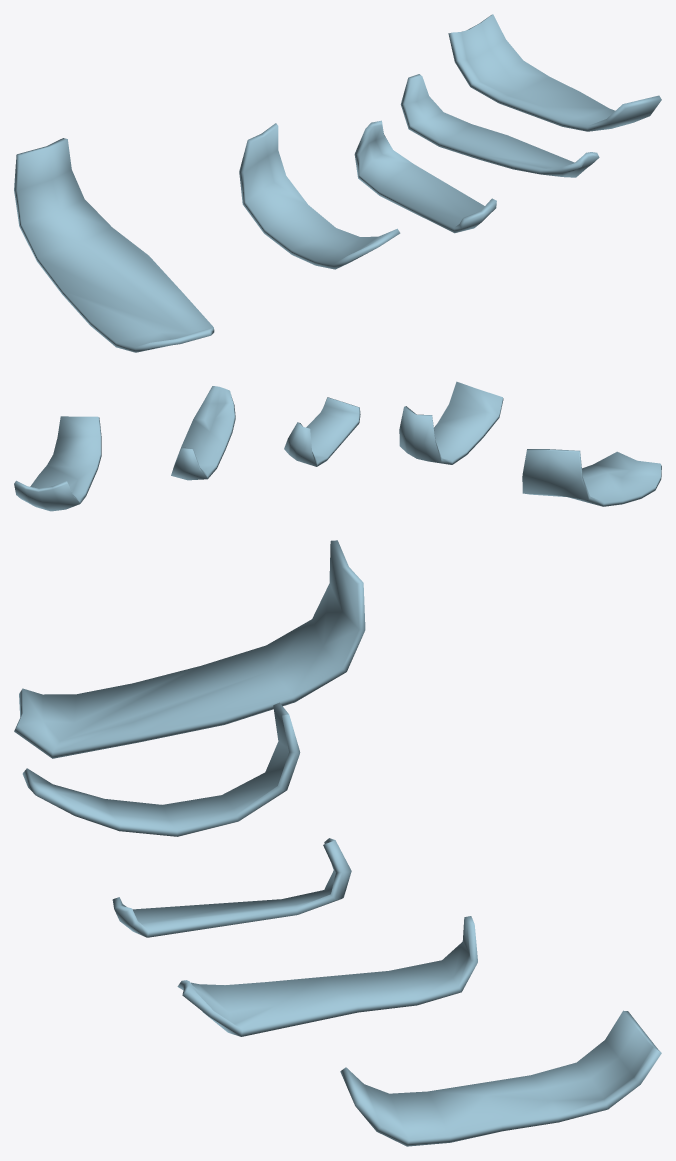
The model's file is articulacoes-plantar-metatarsophalangeal-ligaments-l.glb.
3 renders of one model, top to bottom at view 1: azimuth 30°, elevation 25°; view 2: azimuth 150°, elevation 25°; view 3: azimuth 270°, elevation 25°, orthographic. The views are drawn at different scales.
Parts seen in each view (by area): view 1: Plantar metatarsophalangeal ligaments.l; view 2: Plantar metatarsophalangeal ligaments.l; view 3: Plantar metatarsophalangeal ligaments.l.
Boxes of the visible parts, x1,y1,x2,y2 form: Plantar metatarsophalangeal ligaments.l: (14,14,661,352); Plantar metatarsophalangeal ligaments.l: (14,381,661,511); Plantar metatarsophalangeal ligaments.l: (14,540,661,1146).
Bounding box in the file's own units: 0.0682 × 0.0144 × 0.044.
